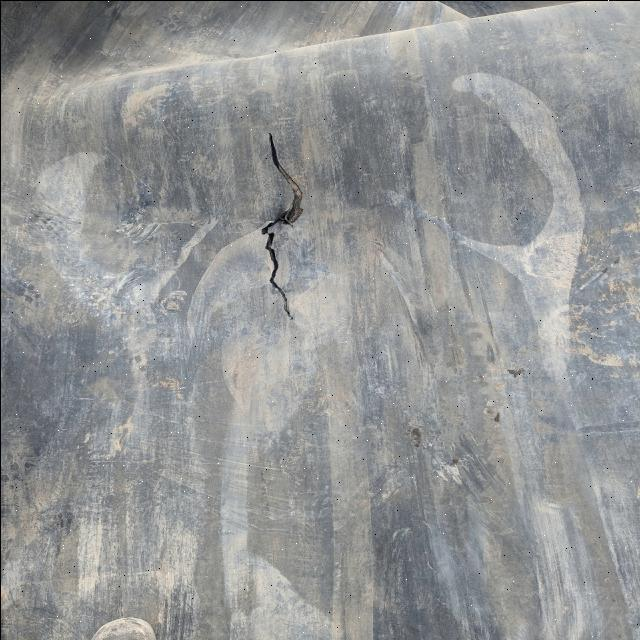Tear: (256, 130, 308, 325)
